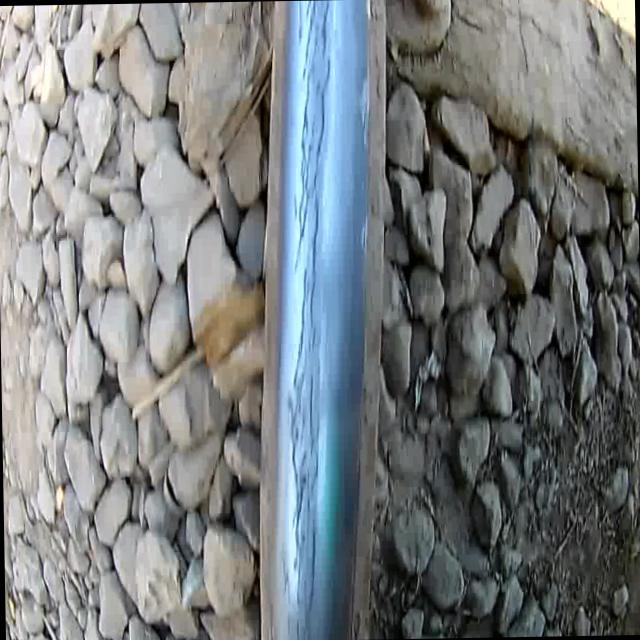Cracks: (270, 0, 345, 640)
